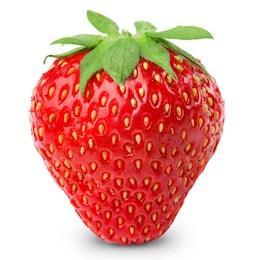Fresa: (24, 29, 233, 250)
